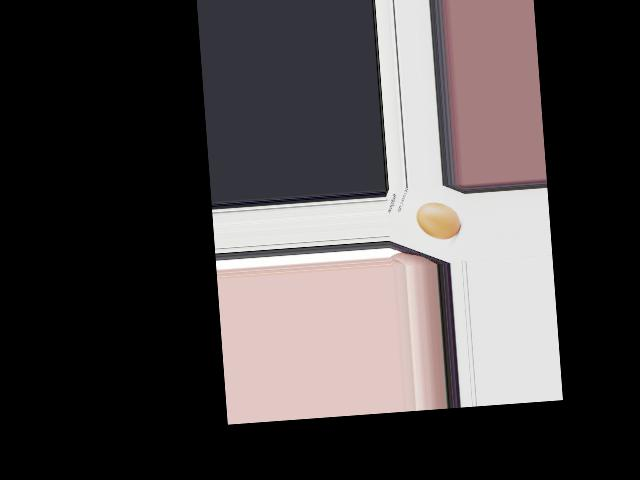egg: (415, 201, 461, 241)
